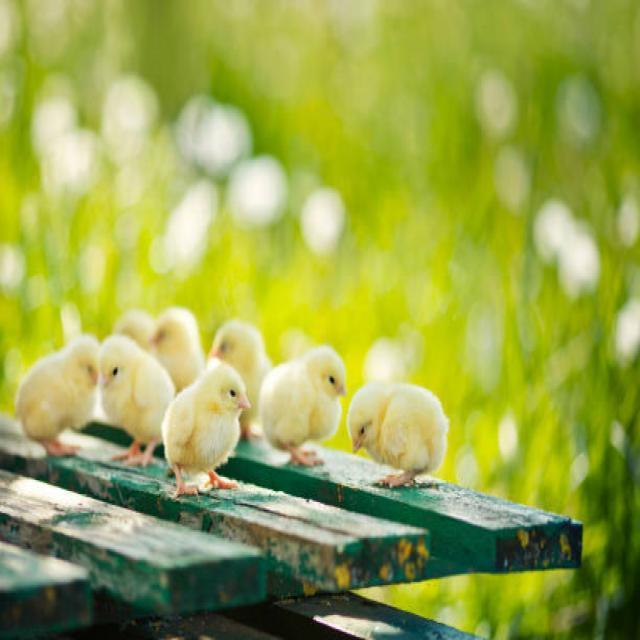Healthy: (159, 359, 255, 505), (344, 373, 454, 499), (93, 327, 178, 465)
